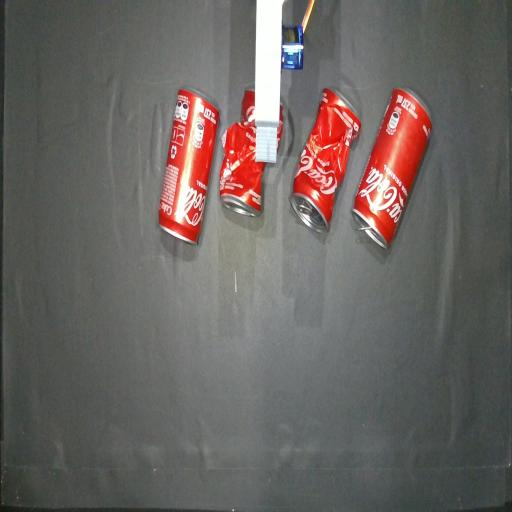lata: (352, 89, 432, 247), (159, 90, 219, 244)
lata_defectuoso: (290, 88, 361, 232), (219, 88, 265, 217), (277, 103, 283, 150)
